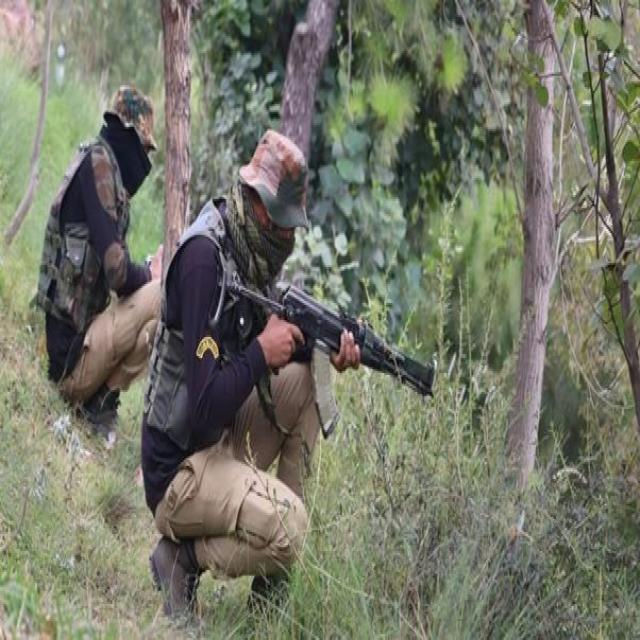Forest: (0, 0, 640, 640)
Militant: (142, 112, 366, 626), (34, 73, 178, 430)
